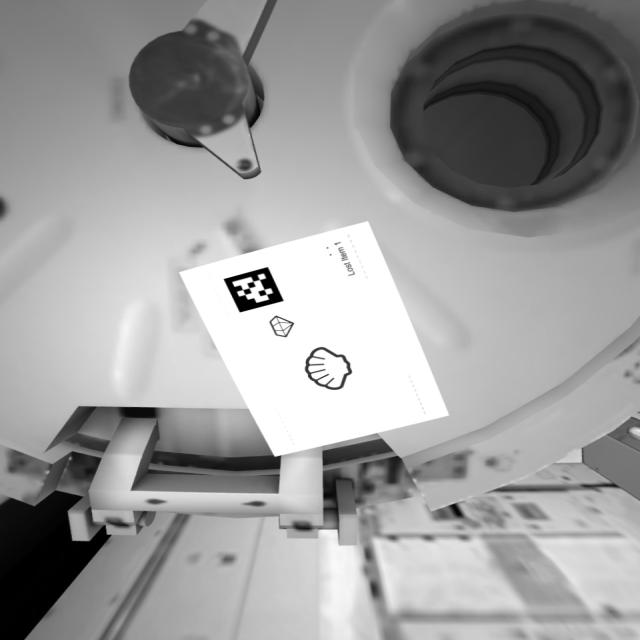diamond: (268, 308, 301, 343)
shell: (290, 343, 367, 401)
